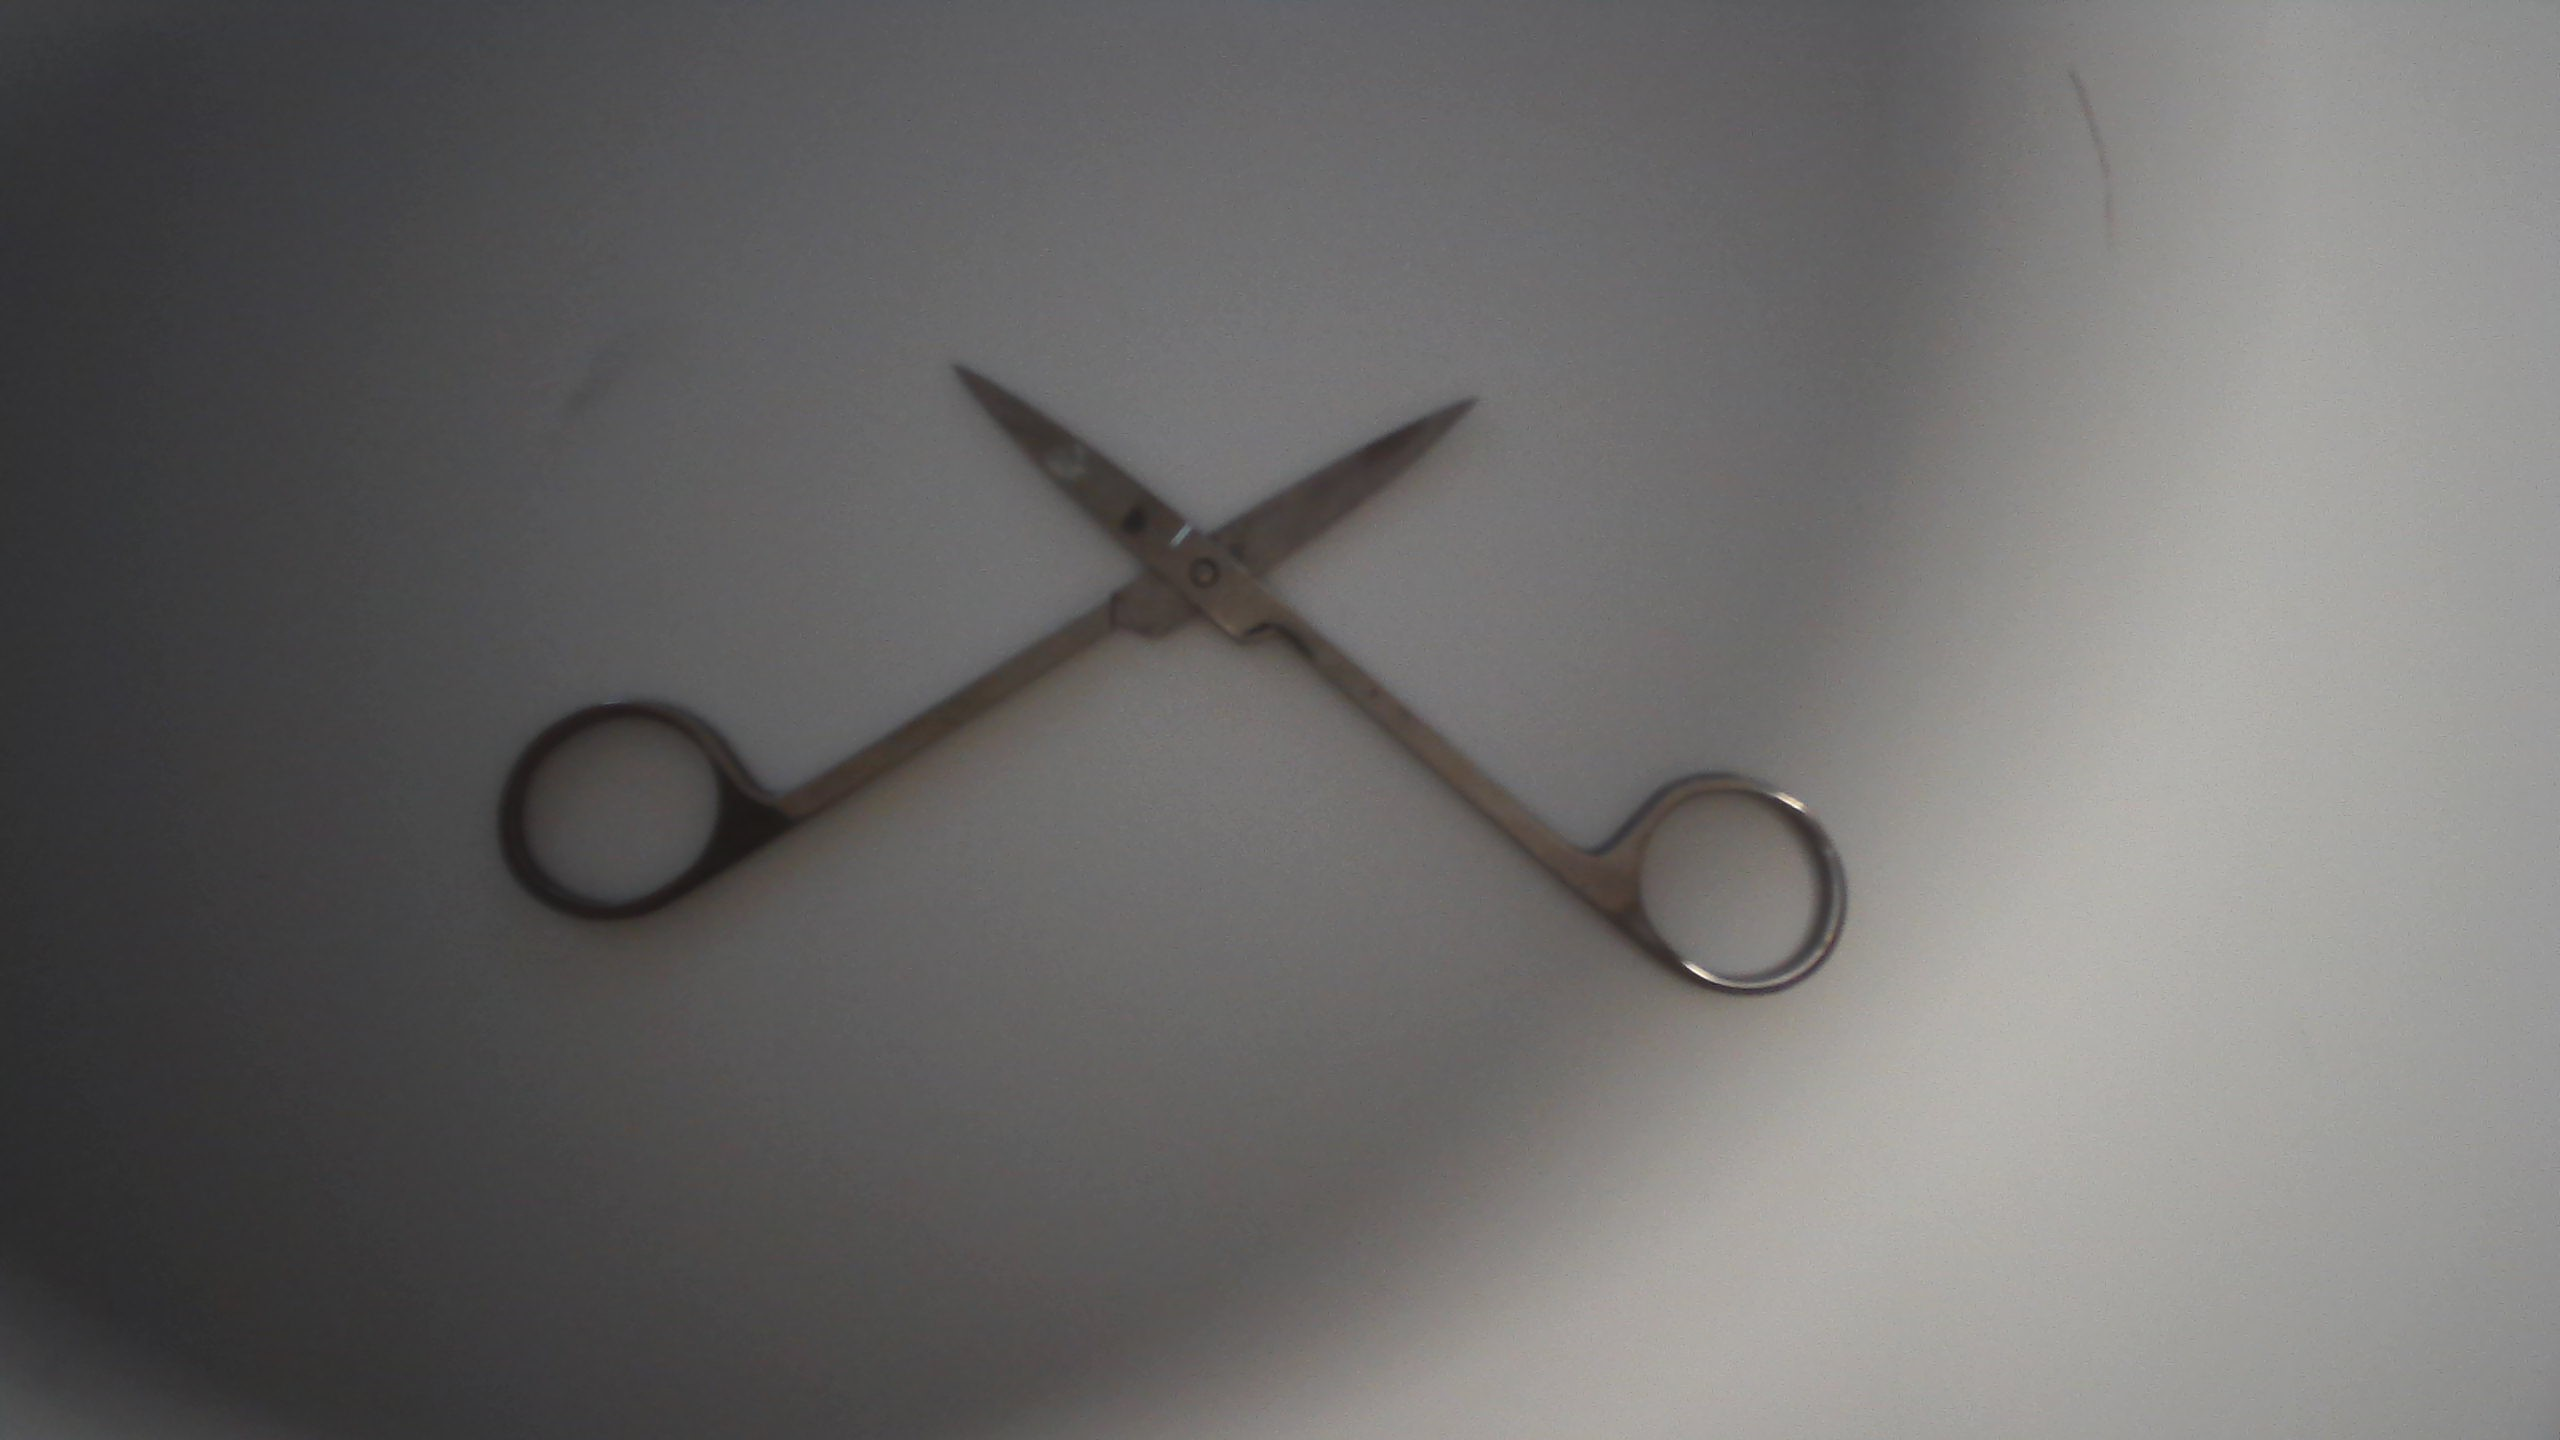Tissues: (1029, 434, 1104, 492)
